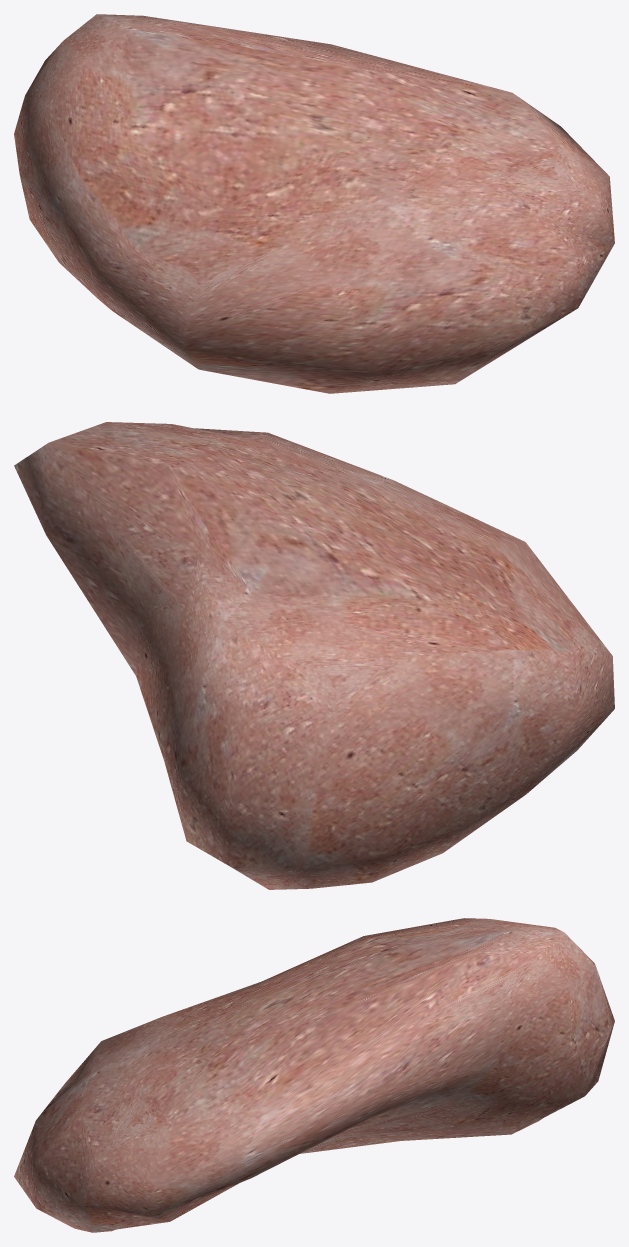
File: Riverstone5.fbx
3 renders of one model, top to bottom at view 1: azimuth 30°, elevation 25°; view 2: azimuth 150°, elevation 25°; view 3: azimuth 270°, elevation 25°, orthographic. The views are drawn at different scales.
Visible parts, largest first — view 1: Riverstone5; view 2: Riverstone5; view 3: Riverstone5.
Part boxes in pixels (<box>): Riverstone5: <box>14,14,614,393</box>; Riverstone5: <box>14,422,614,889</box>; Riverstone5: <box>14,918,614,1232</box>.
Size of the model in its own units: 113 by 57.48 by 131.
1 material, 1 textured.
